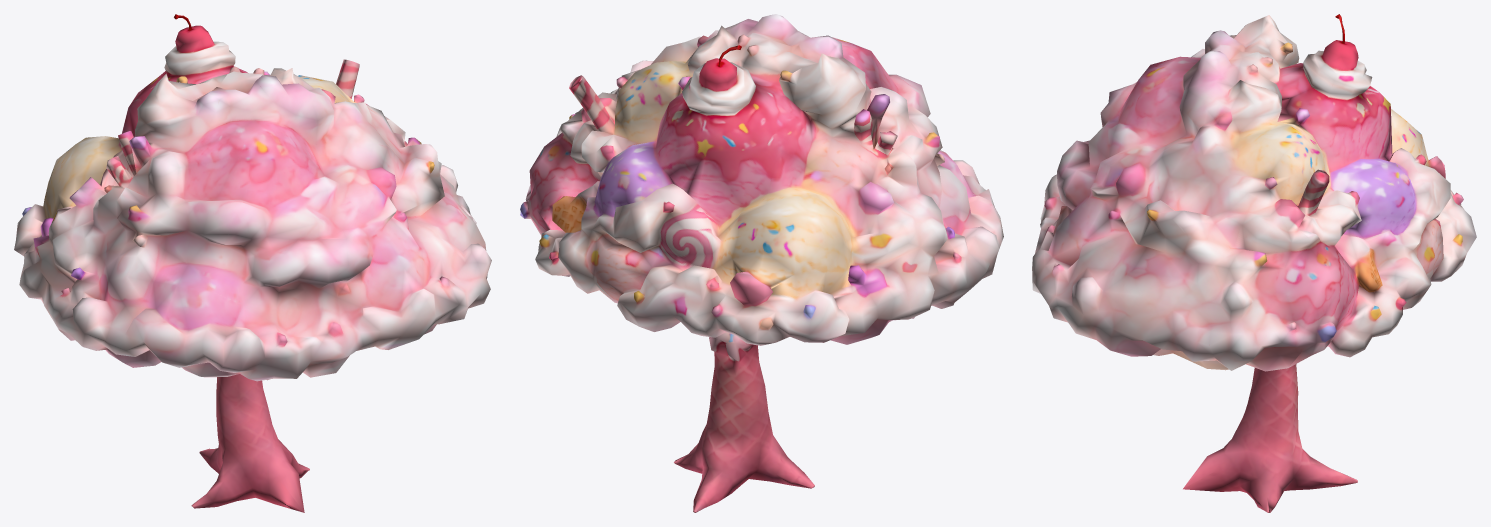
File: snow64-sundae-tree-pink.glb
3 renders of one model, left to right at view 1: azimuth 30°, elevation 25°; view 2: azimuth 150°, elevation 25°; view 3: azimuth 270°, elevation 25°, orthographic. The views are drawn at different scales.
Visible parts, largest first — view 1: geometry_0; view 2: geometry_0; view 3: geometry_0.
Part boxes in pixels (box(x1,y1,x2,y2)): geometry_0: box(14, 14, 491, 512); geometry_0: box(520, 14, 1003, 512); geometry_0: box(1032, 14, 1476, 512).
Bounding box in the file's own units: 0.9268 × 0.9531 × 0.8496.
Materials: 1 (1 with a texture image).
